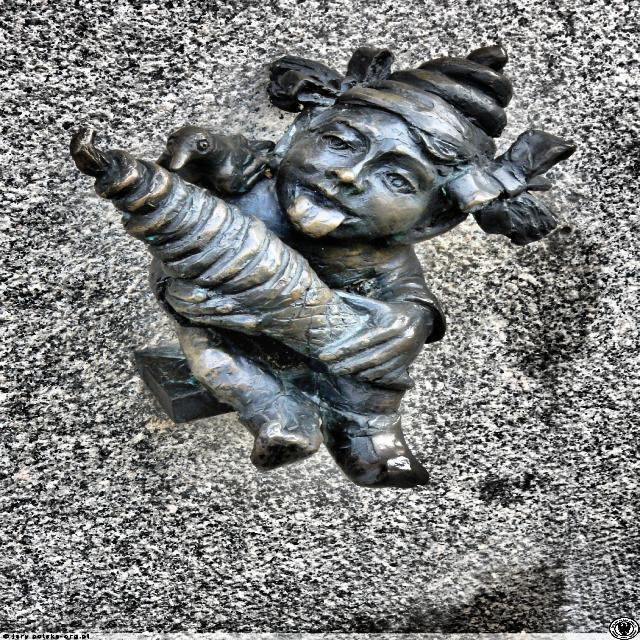Dziupelka: (69, 48, 576, 490)
